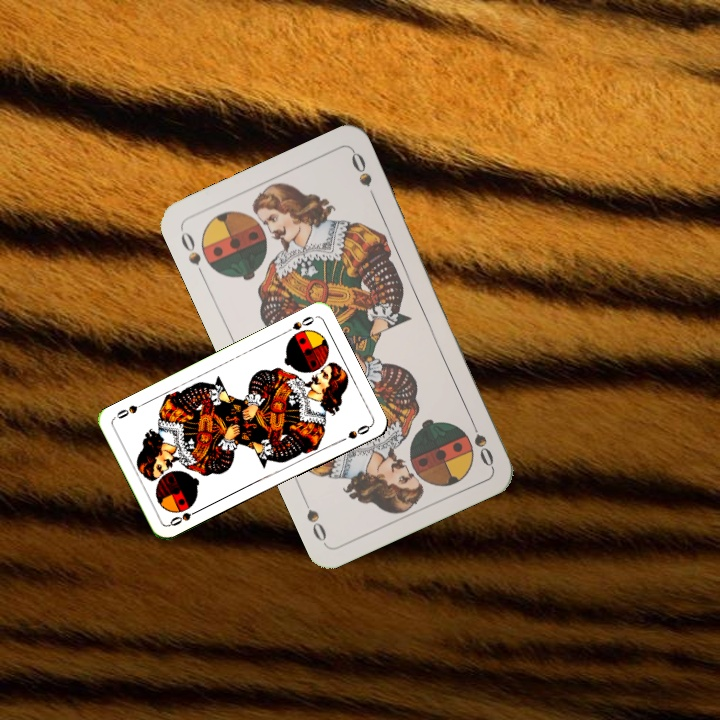SO: (465, 412, 497, 470), (176, 225, 208, 281), (166, 505, 204, 529), (280, 312, 317, 336)
